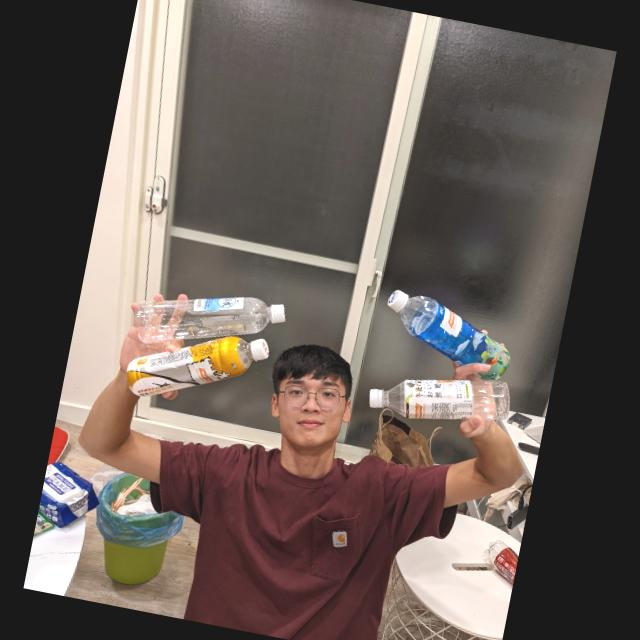trash: (118, 314, 272, 426), (126, 273, 291, 372), (374, 286, 524, 386), (366, 356, 516, 443)
